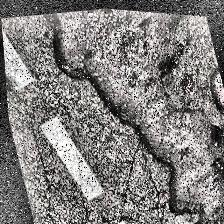pothole: (42, 2, 224, 224)
